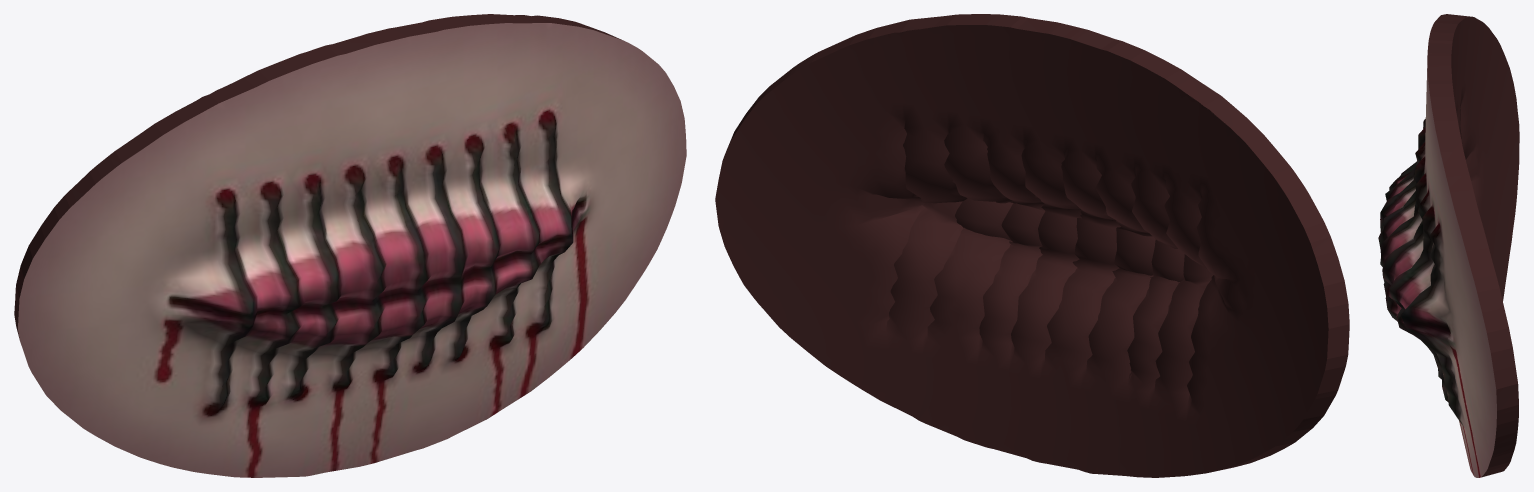
File: 縫われた口_nuikuchi.glb
3 views of the same model, side by side, from view 1: azimuth 30°, elevation 25°; view 2: azimuth 150°, elevation 25°; view 3: azimuth 270°, elevation 25° (orthographic). The views are drawn at different scales.
Parts seen in each view (by area): view 1: nuikuchi; view 2: nuikuchi; view 3: nuikuchi.
Boxes of the visible parts, box(x1,y1,x2,y2) form: nuikuchi: box(14, 14, 686, 477); nuikuchi: box(715, 14, 1349, 477); nuikuchi: box(1378, 14, 1519, 477).
Size of the model in its own units: 0.1227 by 0.0773 by 0.0266.
1 material, 1 textured.
